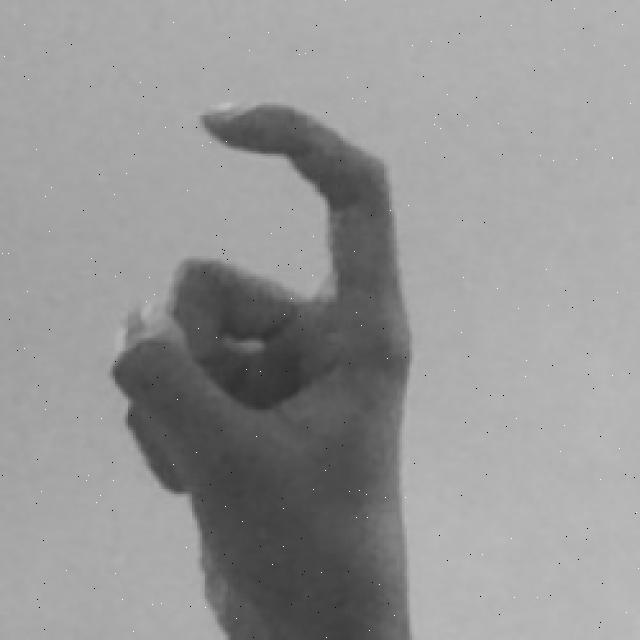X: (100, 94, 425, 640)
